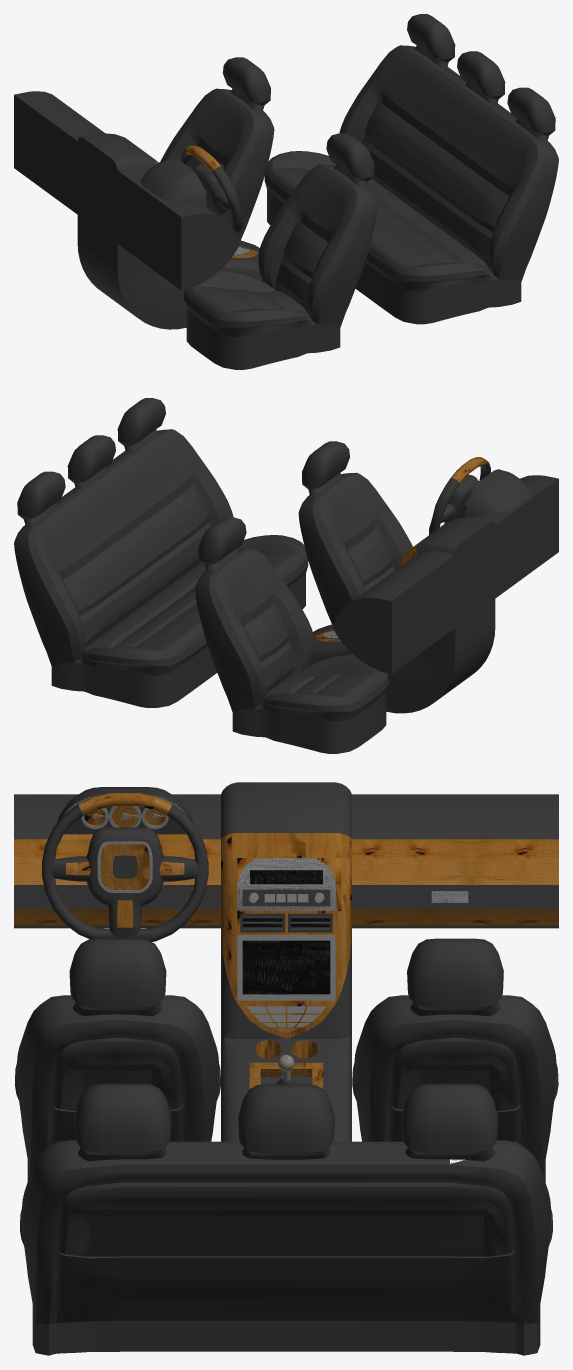
3 views of the same model, one above another, from view 1: azimuth 30°, elevation 25°; view 2: azimuth 150°, elevation 25°; view 3: azimuth 270°, elevation 25° (orthographic). The views are drawn at different scales.
Parts seen in each view (by area): view 1: Seat_6 (×2), Seat_5 (×2), Dashboard (×3); view 2: Seat_6 (×2), Seat_5 (×2), Dashboard (×3); view 3: Seat_6 (×2), Dashboard (×14), Seat_5 (×2).
Boxes of the visible parts, <box> form: Seat_6 (×2): <box>264,14,558,324</box>; Seat_5 (×2): <box>160,57,377,369</box>; Dashboard (×3): <box>14,91,262,329</box>; Seat_6 (×2): <box>14,398,308,707</box>; Seat_5 (×2): <box>195,441,412,753</box>; Dashboard (×3): <box>310,460,558,713</box>; Seat_6 (×2): <box>20,1083,552,1355</box>; Dashboard (×14): <box>14,782,558,1141</box>; Seat_5 (×2): <box>15,938,558,1182</box>.
Bounding box in the file's own units: 137 × 100 × 66.41.
Materials: 5 (1 with a texture image).
